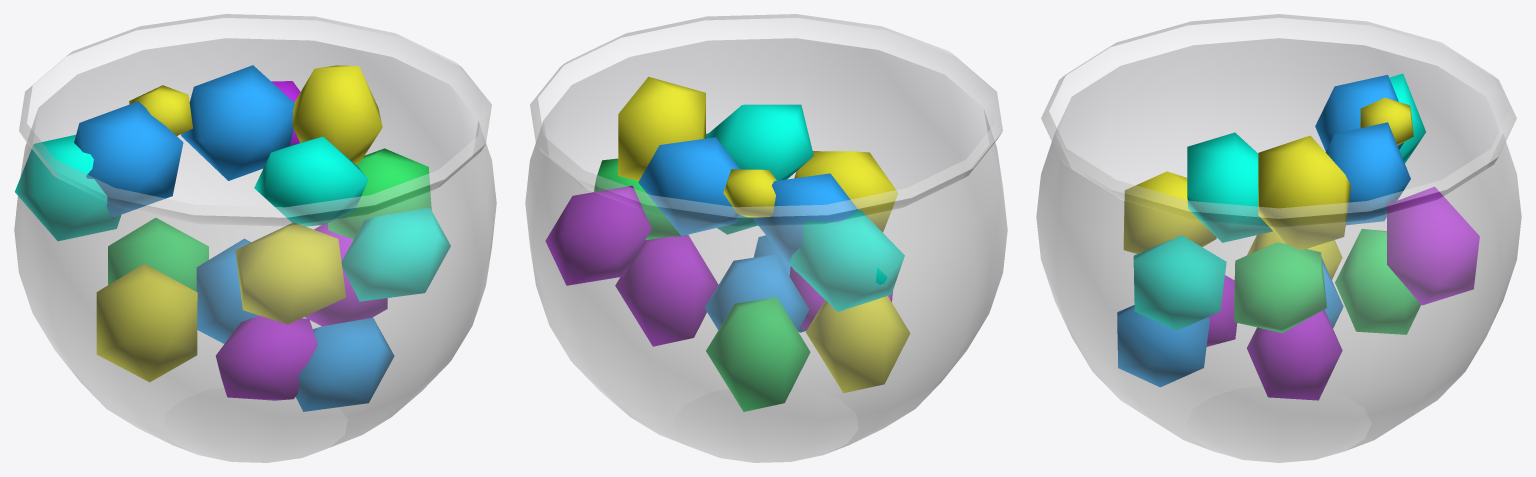
Rendered from Bowl.fbx.
3 renders of one model, left to right at view 1: azimuth 30°, elevation 25°; view 2: azimuth 150°, elevation 25°; view 3: azimuth 270°, elevation 25°, orthographic.
Visible parts, largest first — view 1: Sphere, Icosphere; view 2: Sphere, Icosphere; view 3: Sphere, Icosphere.
Boxes of the visible parts, x1,y1,x2,y2 form: Sphere: (14,14,496,462); Icosphere: (15,65,450,411); Sphere: (525,14,1007,462); Icosphere: (545,76,910,411); Sphere: (1036,14,1521,462); Icosphere: (1117,73,1479,400).
Size of the model in its own units: 44 by 32.47 by 44.
